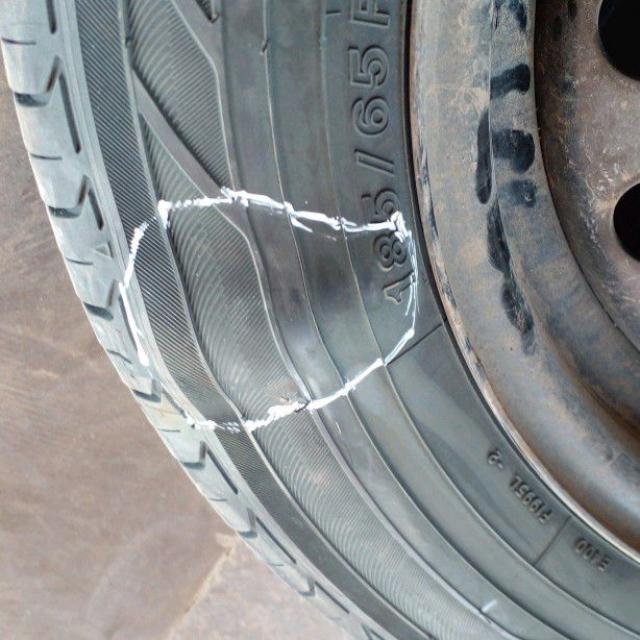Bulge: (152, 235, 434, 438)
